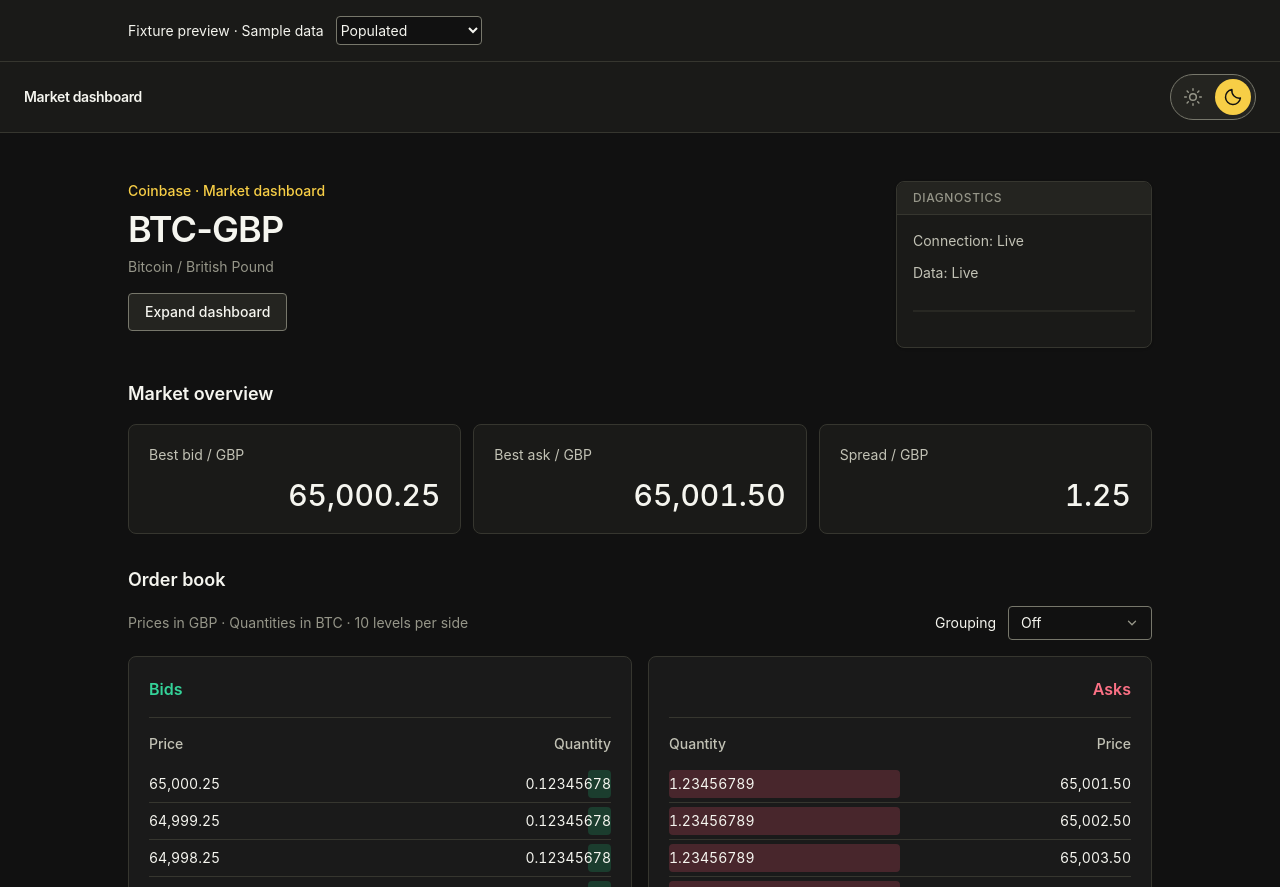
it: regroups stale data without changing its receipt or freshness
Select "Stale" in the dropdown labelled "Fixture preview · Sample data" at (409, 30), box [336, 16, 482, 45]
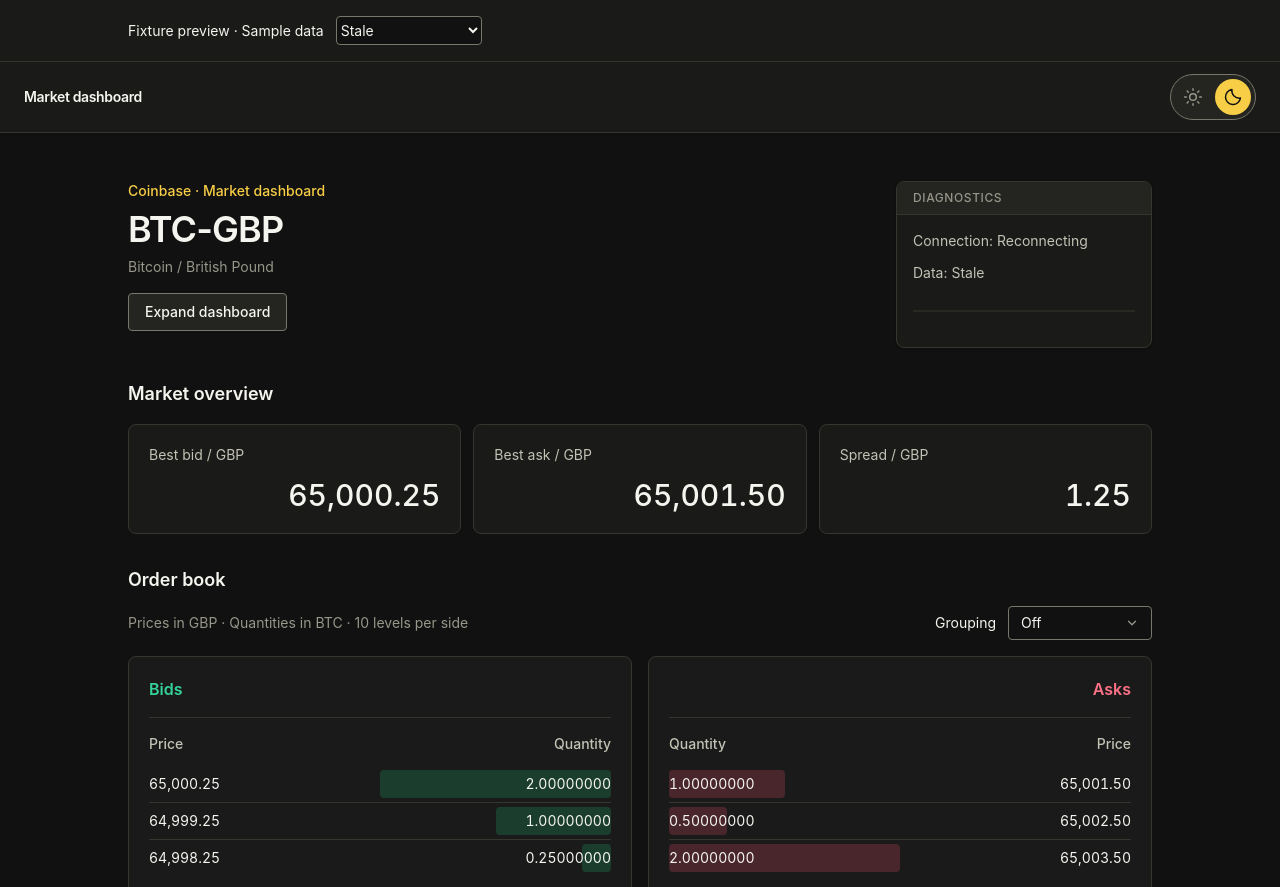
Click the dropdown named "Grouping" at (1080, 623), box [1008, 606, 1152, 640]
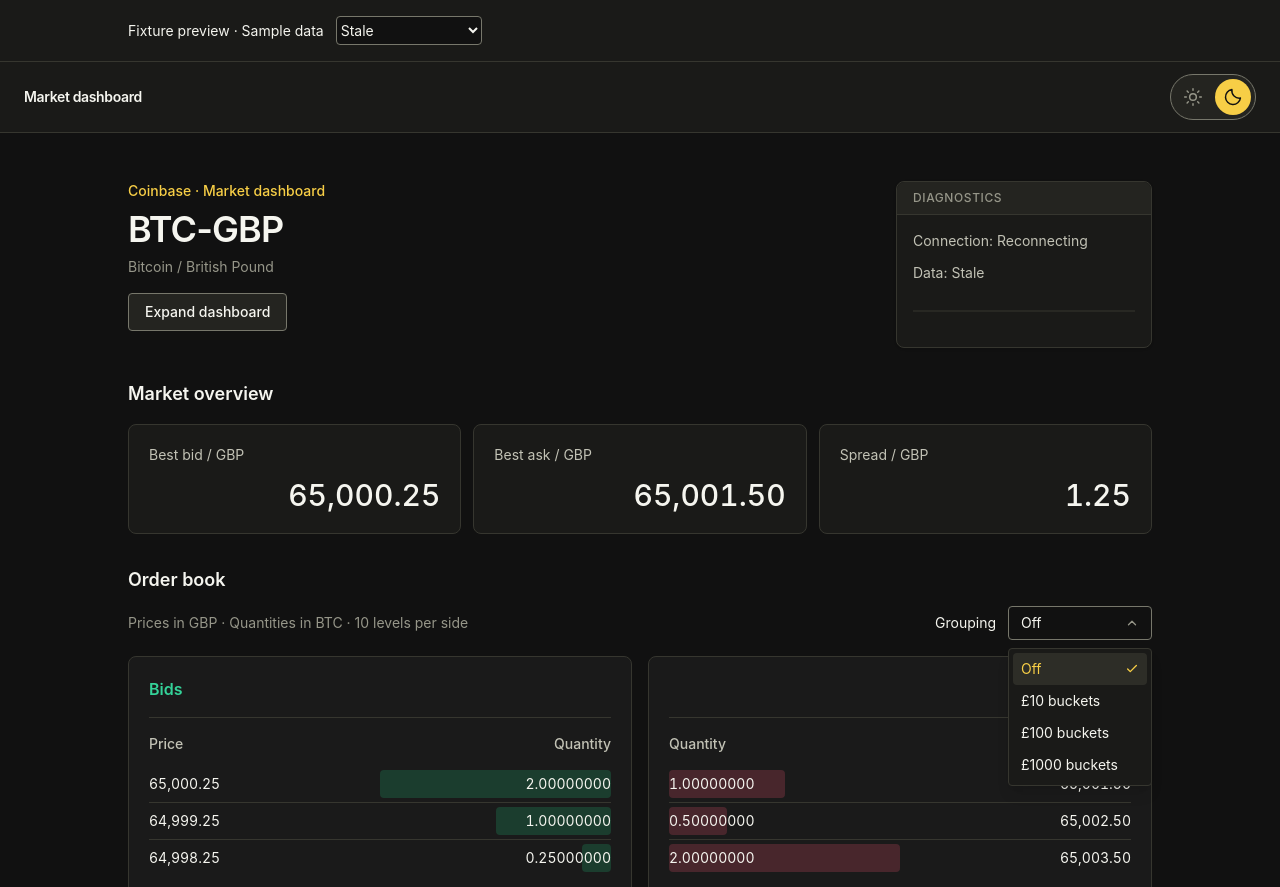
Click the option "£100 buckets" at (1065, 732), box [1021, 724, 1109, 741]
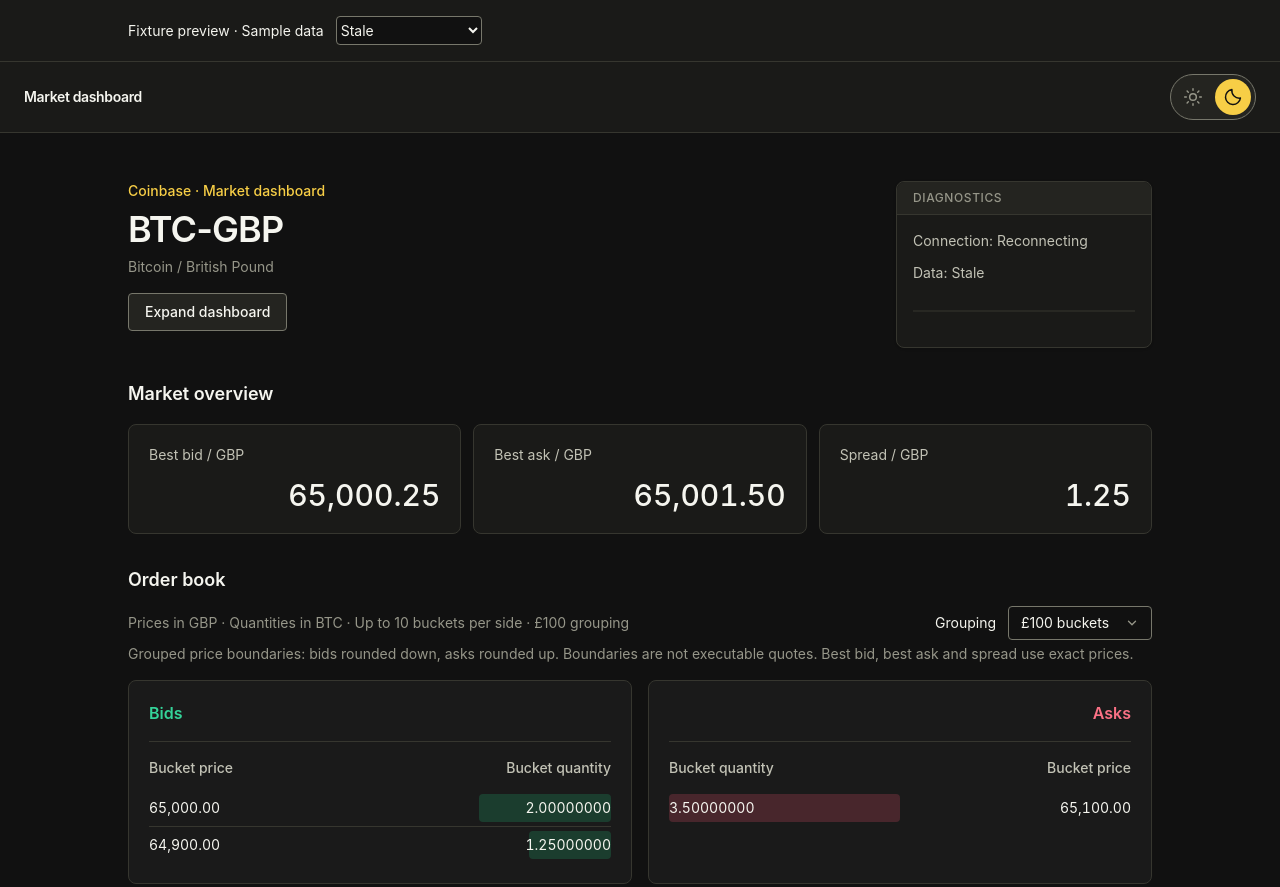
Result: the cell "2.00000000" is shown at [380, 790, 611, 826]
Result: the cell "65,000.00" is shown at [149, 790, 380, 826]
Result: the cell "64,900.00" is shown at [149, 826, 380, 863]
